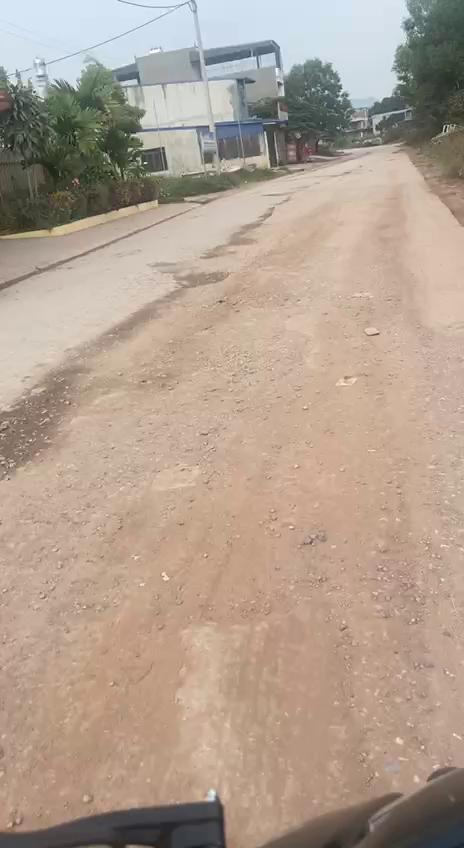pothole: (0, 364, 92, 478), (172, 262, 230, 292)
